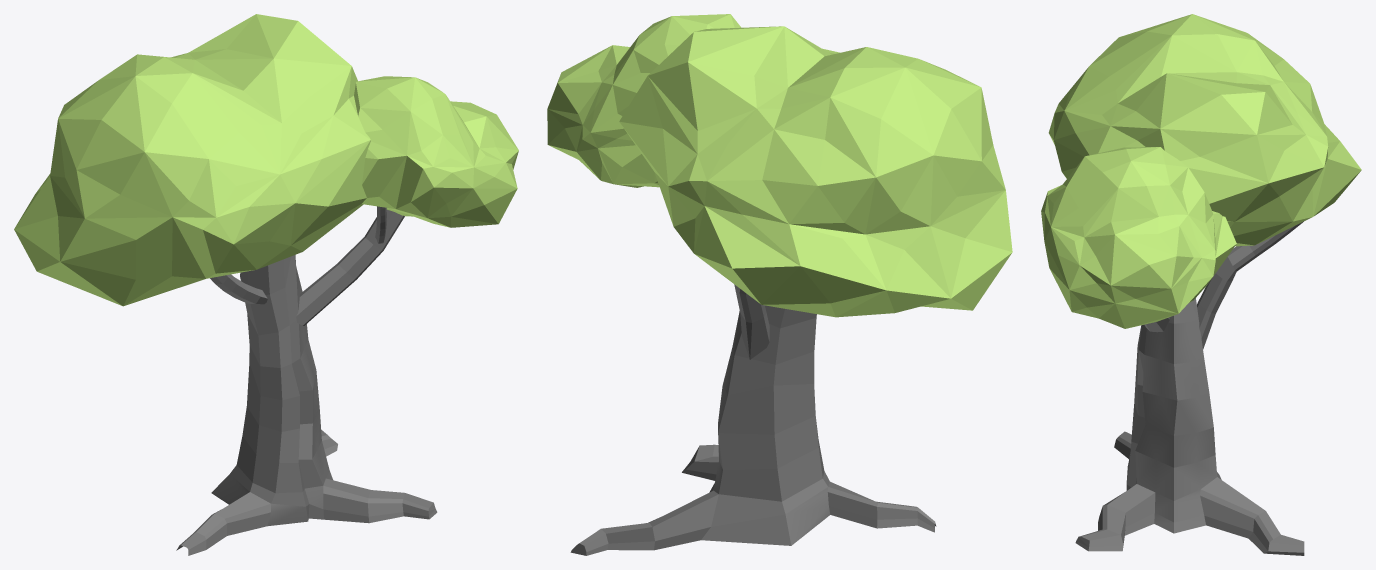
The model's file is arbre_petit.fbx.
3 views of the same model, side by side, from view 1: azimuth 30°, elevation 25°; view 2: azimuth 150°, elevation 25°; view 3: azimuth 270°, elevation 25° (orthographic). The views are drawn at different scales.
Parts seen in each view (by area): view 1: arbre_petit; view 2: arbre_petit; view 3: arbre_petit.
Part boxes in pixels (left/top/right/bottom): arbre_petit: left=14, top=14, right=518, bottom=555; arbre_petit: left=547, top=14, right=1012, bottom=555; arbre_petit: left=1041, top=14, right=1361, bottom=555.
Bounding box in the file's own units: 93.98 × 97.18 × 65.58.
